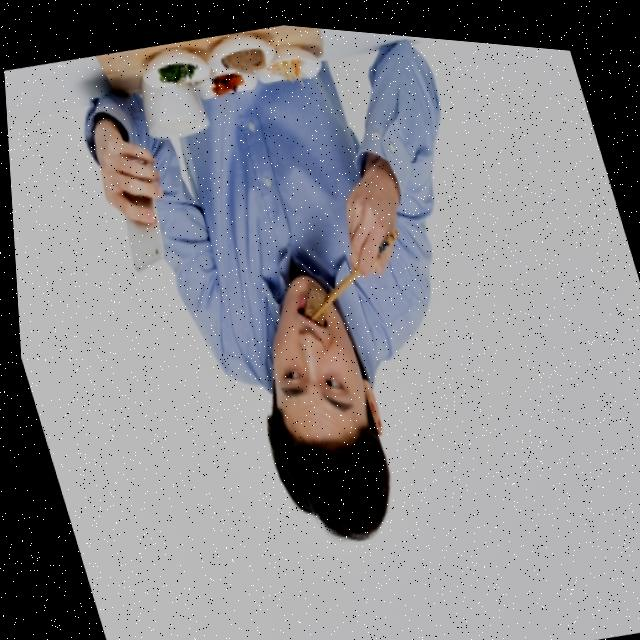eating-person: (56, 4, 575, 602)
